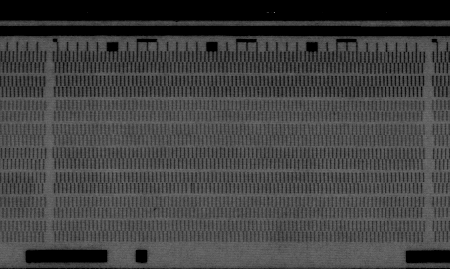Oblique printing: (184, 182, 196, 195)
